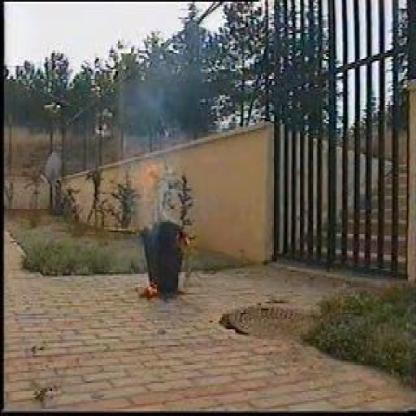-: (127, 59, 194, 152)
foggia-v2-map80-epoch100 - v1 4323: (139, 164, 161, 202)
